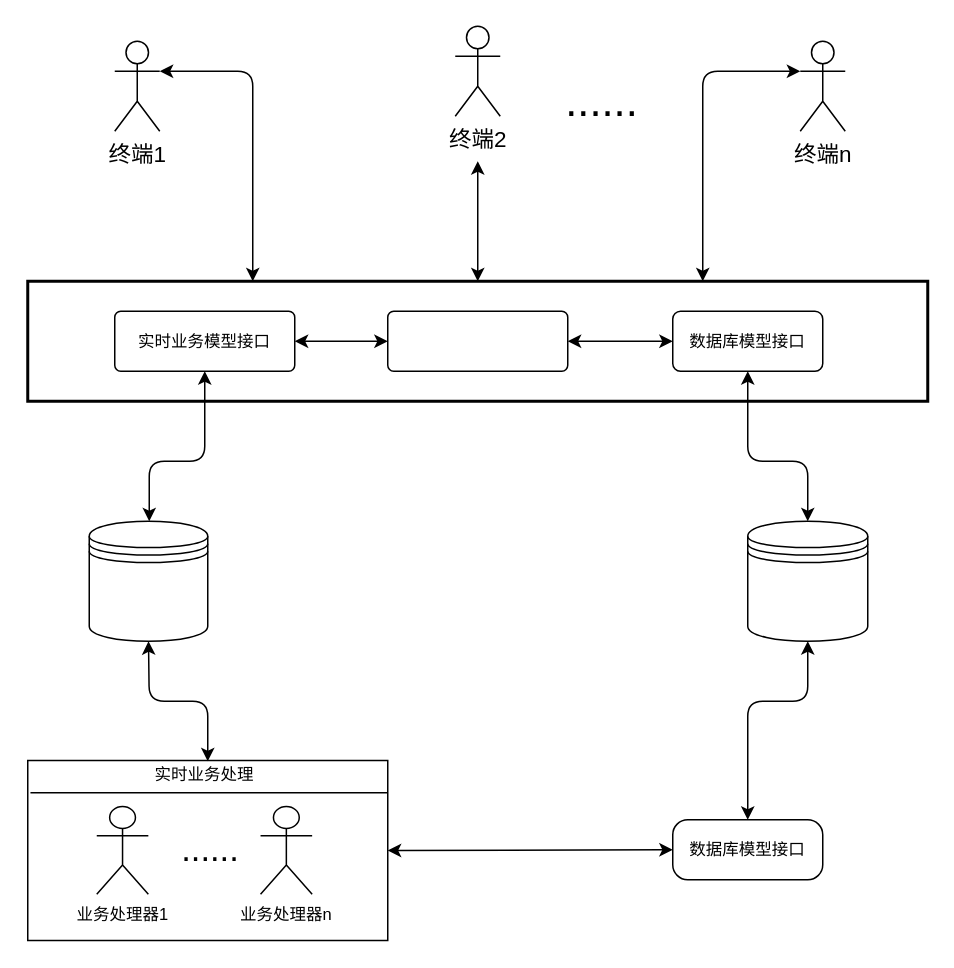
Image size: 954x968. Some labels were removed from this diagram. Each missing label, with the centre of its shape:
MySQL: the point at 807,580
Redis: the point at 148,580
请求业务路由: the point at 477,340
